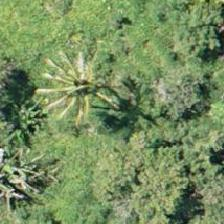coconut_tree: (161, 142, 223, 223)
